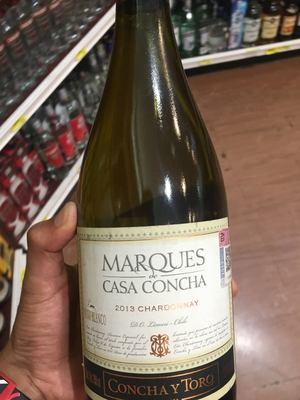marques de casa concha chardonnay: (66, 6, 245, 396)
